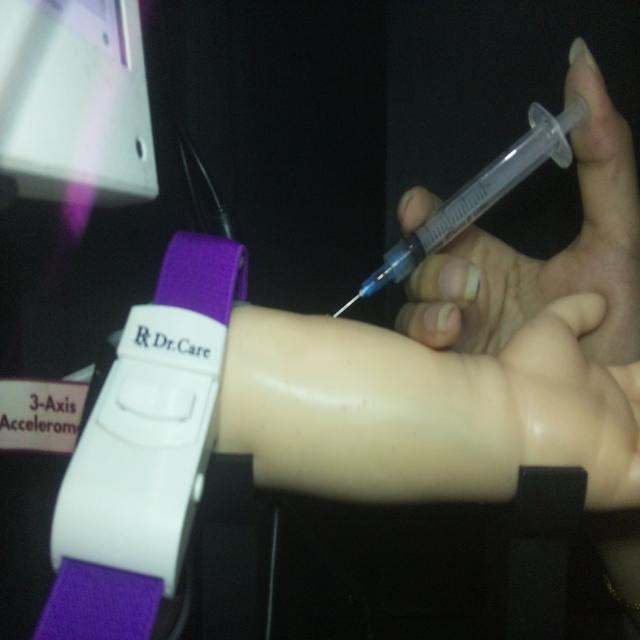30 degrees: (331, 90, 590, 320)
